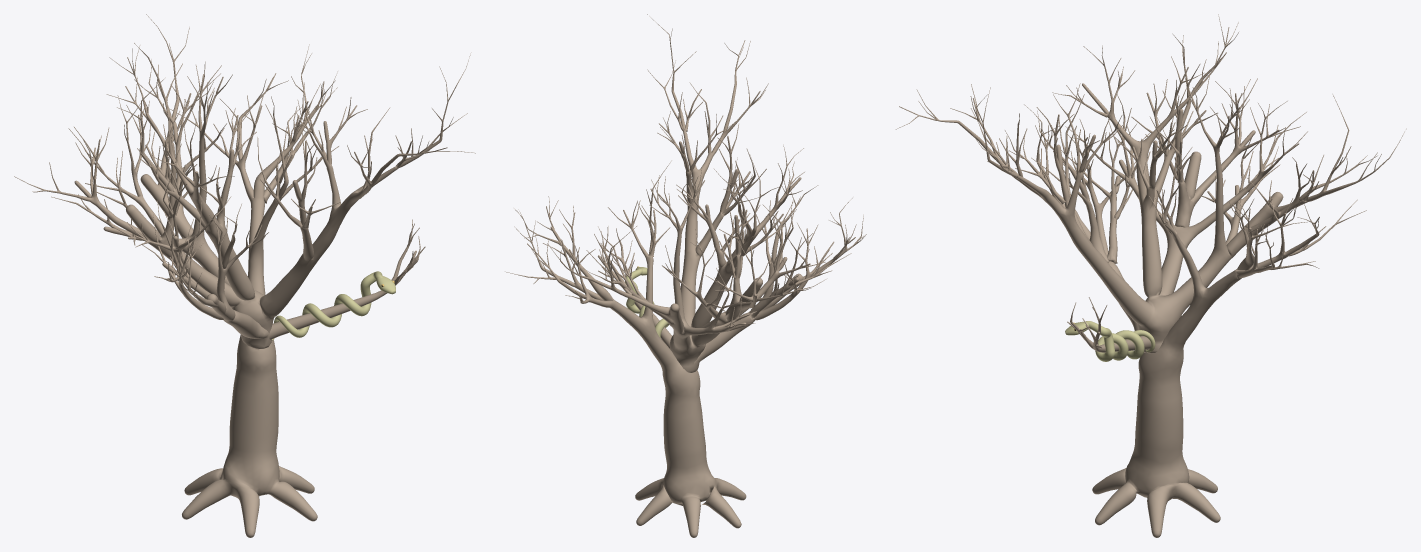
File: hero-tree.glb
The picture shows the model from 3 angles, left to right: view 1: azimuth 30°, elevation 25°; view 2: azimuth 150°, elevation 25°; view 3: azimuth 270°, elevation 25°; orthographic projection. The views are drawn at different scales.
Visible parts, largest first — view 1: HeroWood, SnakeBody; view 2: HeroWood, SnakeBody; view 3: HeroWood, SnakeBody.
Boxes of the visible parts, x1=… form: HeroWood: x1=14, y1=14, x2=475, y2=537; SnakeBody: x1=272, y1=271, x2=382, y2=340; HeroWood: x1=505, y1=14, x2=866, y2=537; SnakeBody: x1=625, y1=268, x2=669, y2=338; HeroWood: x1=895, y1=14, x2=1406, y2=537; SnakeBody: x1=1083, y1=321, x2=1155, y2=361.
Bounding box in the file's own units: 5.78 × 8 × 7.73.
